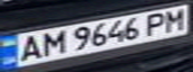4: (106, 17, 130, 44)
6: (121, 15, 148, 42), (90, 20, 112, 47)
9: (66, 24, 93, 52)
A: (9, 33, 45, 63)
M: (33, 29, 69, 57), (160, 7, 190, 33)
P: (139, 10, 172, 36)
